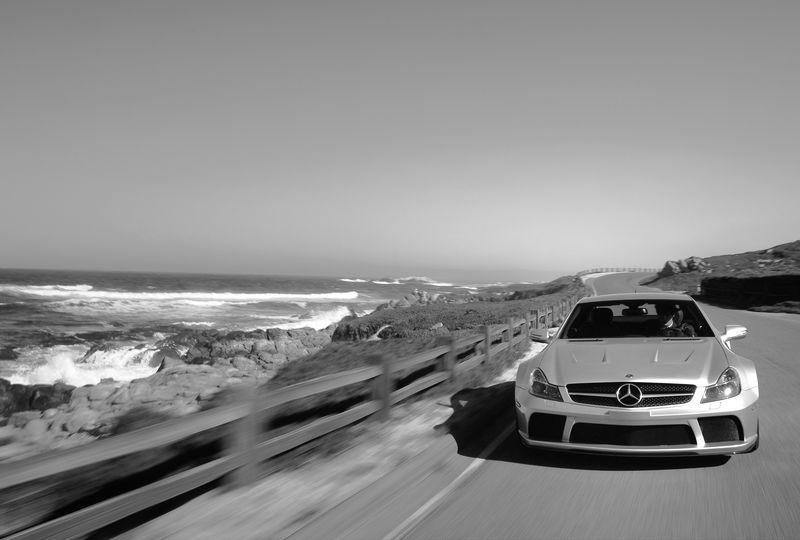car: (517, 291, 765, 462)
